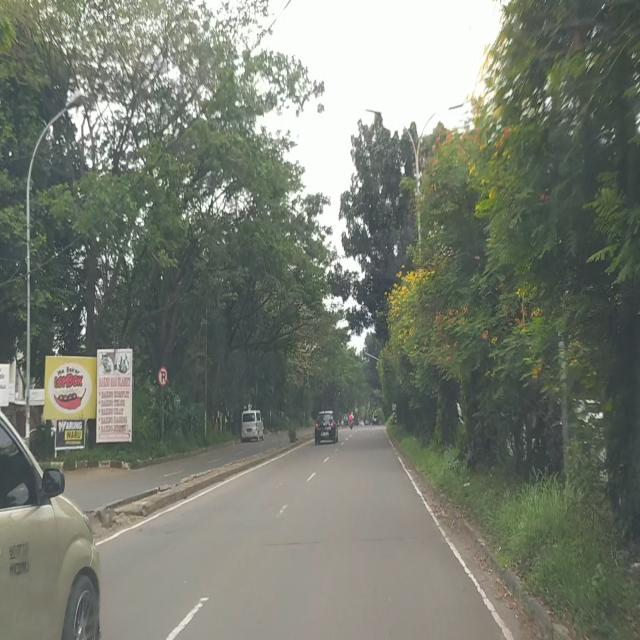Sewer Cover: (262, 537, 446, 547)
